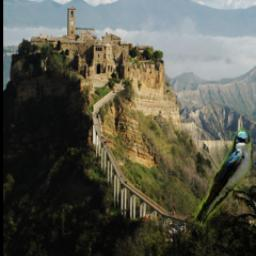Swallow: (192, 129, 252, 227)
